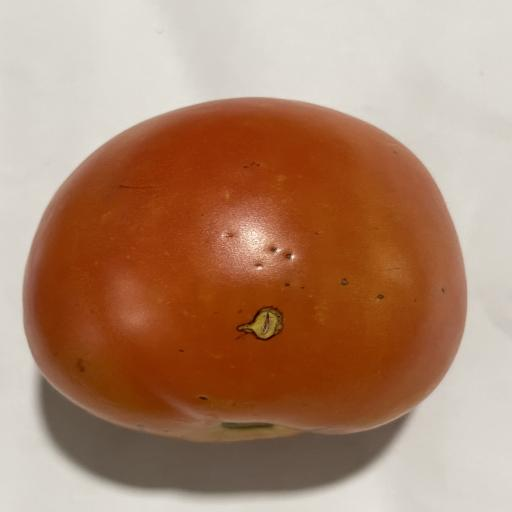ripe: (23, 98, 466, 441)
